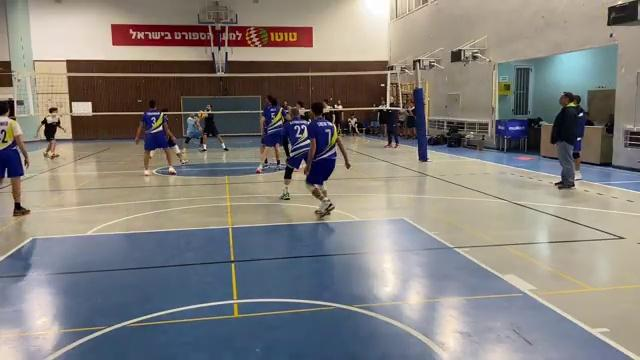ball: (199, 111, 207, 120)
